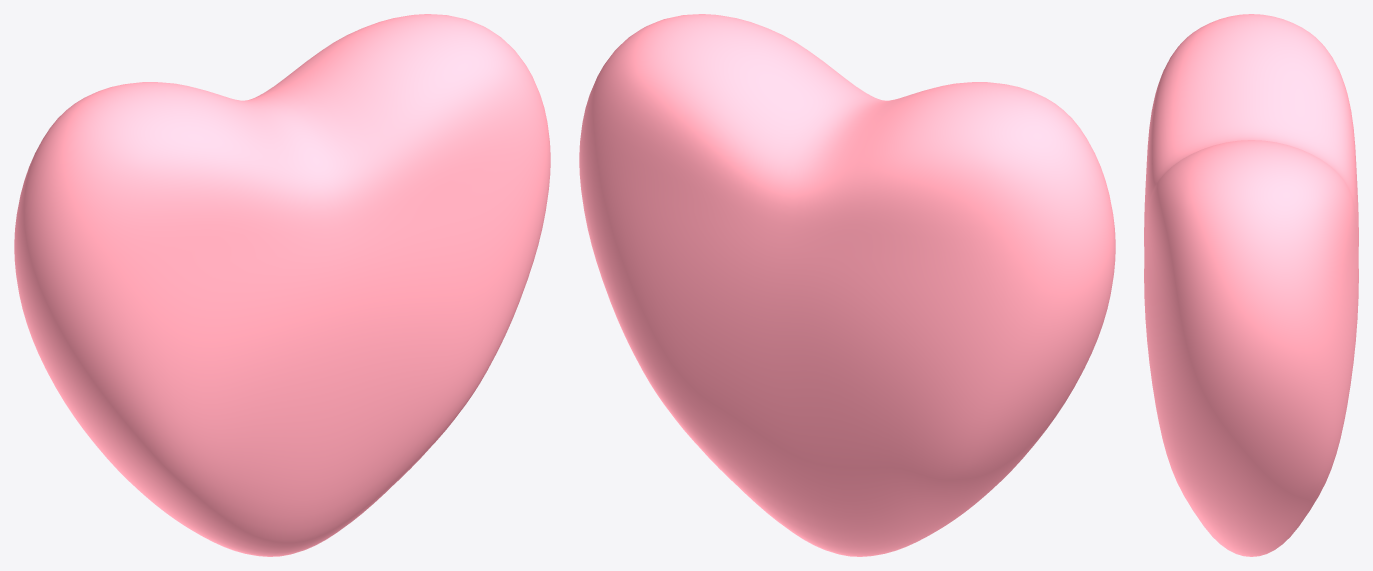
The model's file is rainbowheart.glb.
The picture shows the model from 3 angles, left to right: view 1: azimuth 30°, elevation 25°; view 2: azimuth 150°, elevation 25°; view 3: azimuth 270°, elevation 25°; orthographic projection. The views are drawn at different scales.
Parts seen in each view (by area): view 1: heart; view 2: heart; view 3: heart.
Part boxes in pixels (left/top/right/bottom): heart: left=14, top=14, right=550, bottom=556; heart: left=579, top=14, right=1115, bottom=556; heart: left=1144, top=14, right=1358, bottom=556.
Bounding box in the file's own units: 0.1268 × 0.116 × 0.0495.
